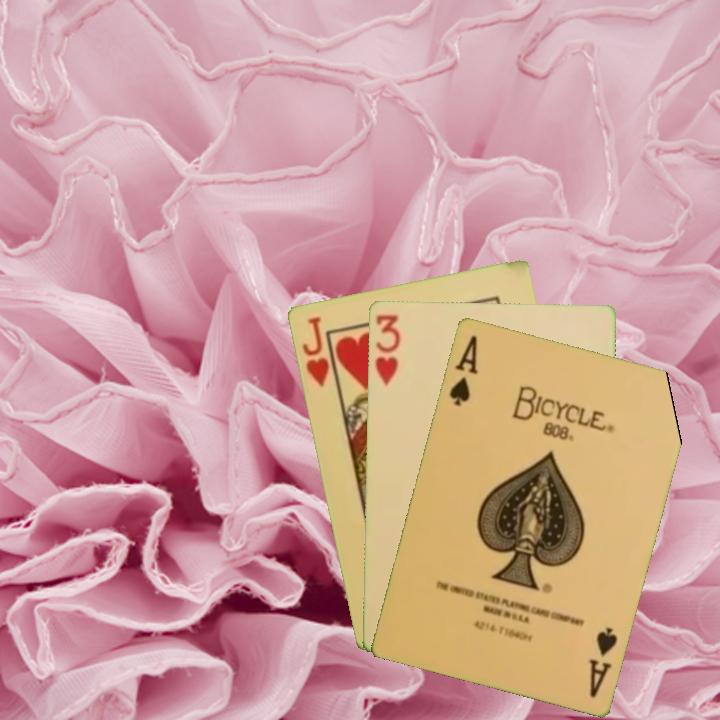3h: (371, 311, 403, 388)
As: (445, 330, 481, 409), (585, 623, 620, 700)
Jh: (298, 312, 340, 392)
